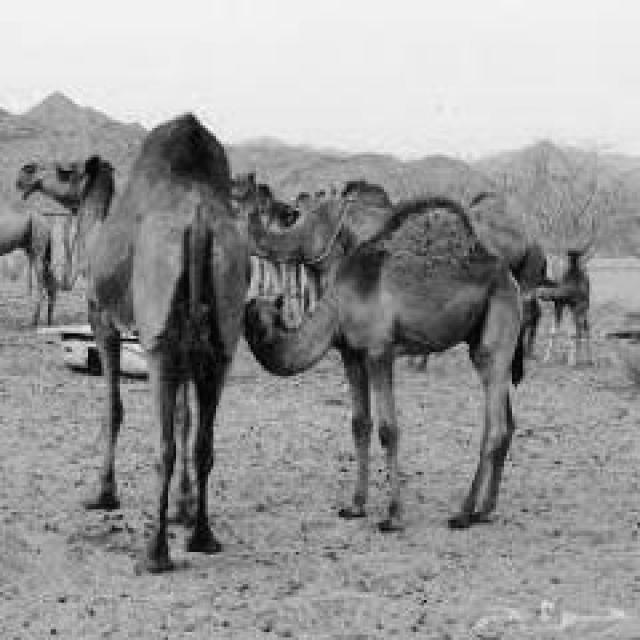Camel: (15, 109, 251, 571), (232, 173, 531, 531)
